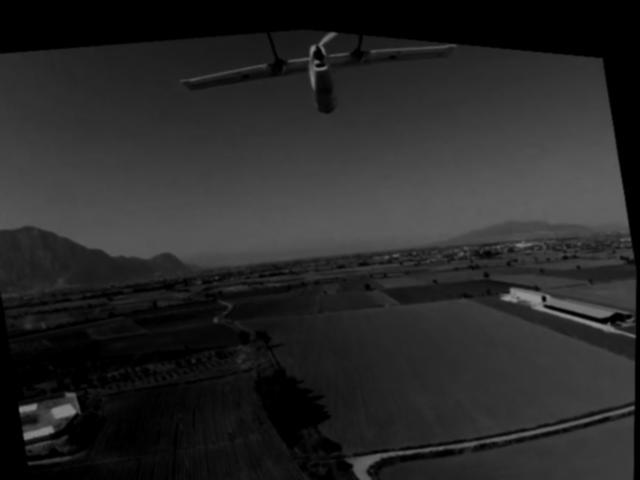hedef: (168, 13, 467, 145)
